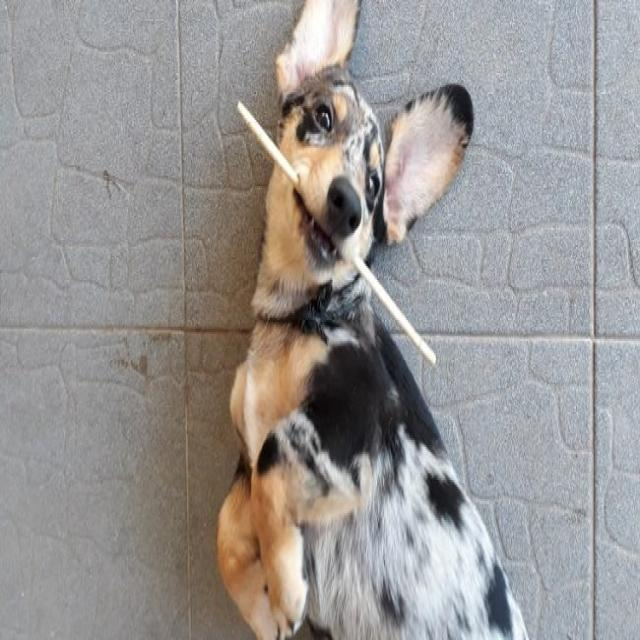dog: (225, 12, 478, 334)
